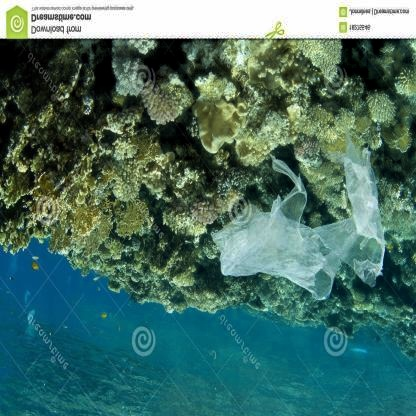pbag: (209, 139, 388, 319)
